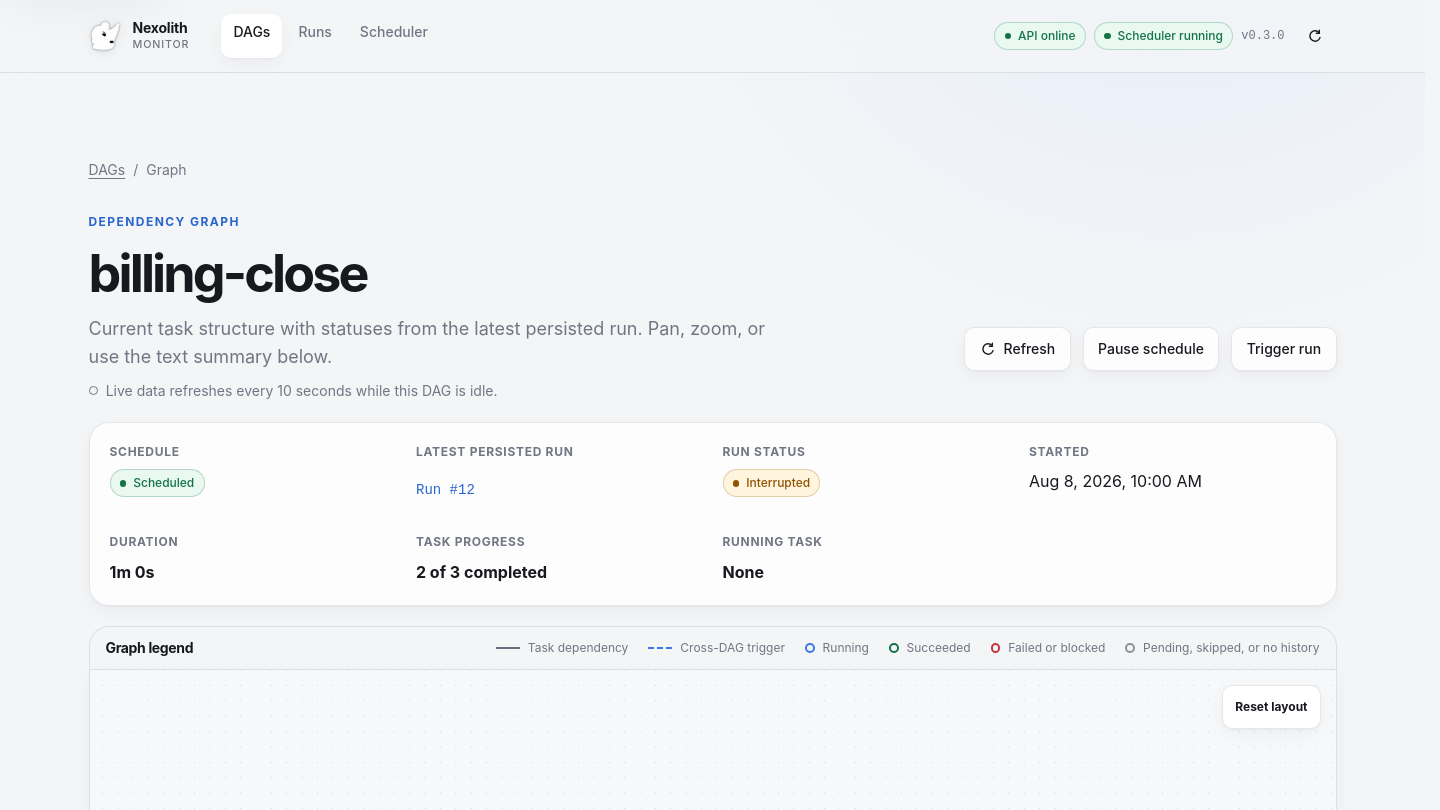
Test: renders typed protected action failures without exposing backend internals
The image size is (1440, 810).
Click the button "Trigger run" at point(1284, 349), box [1231,327,1336,371]
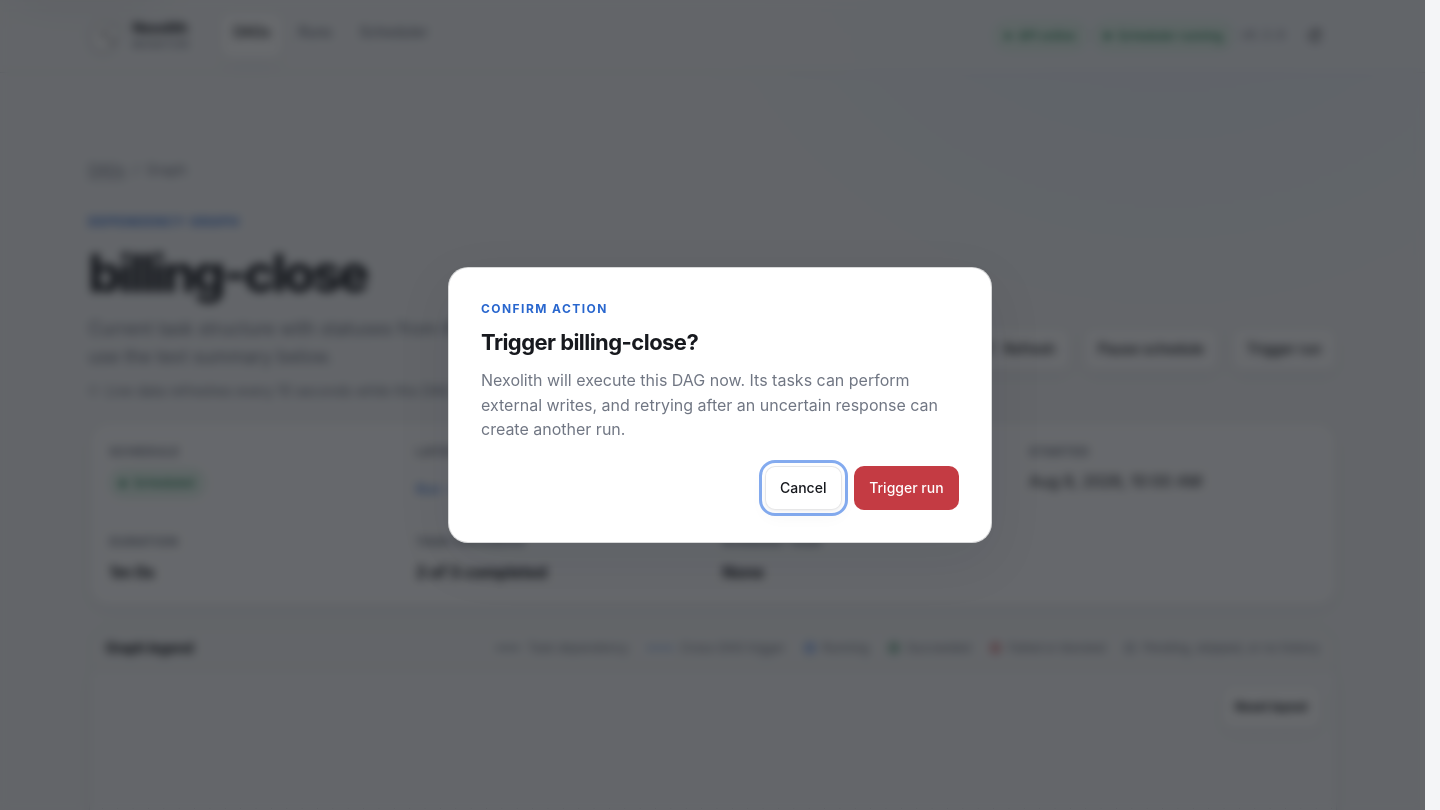
Click the button "Trigger run" below "Trigger billing-close?" at point(906, 488), box [854,466,959,510]
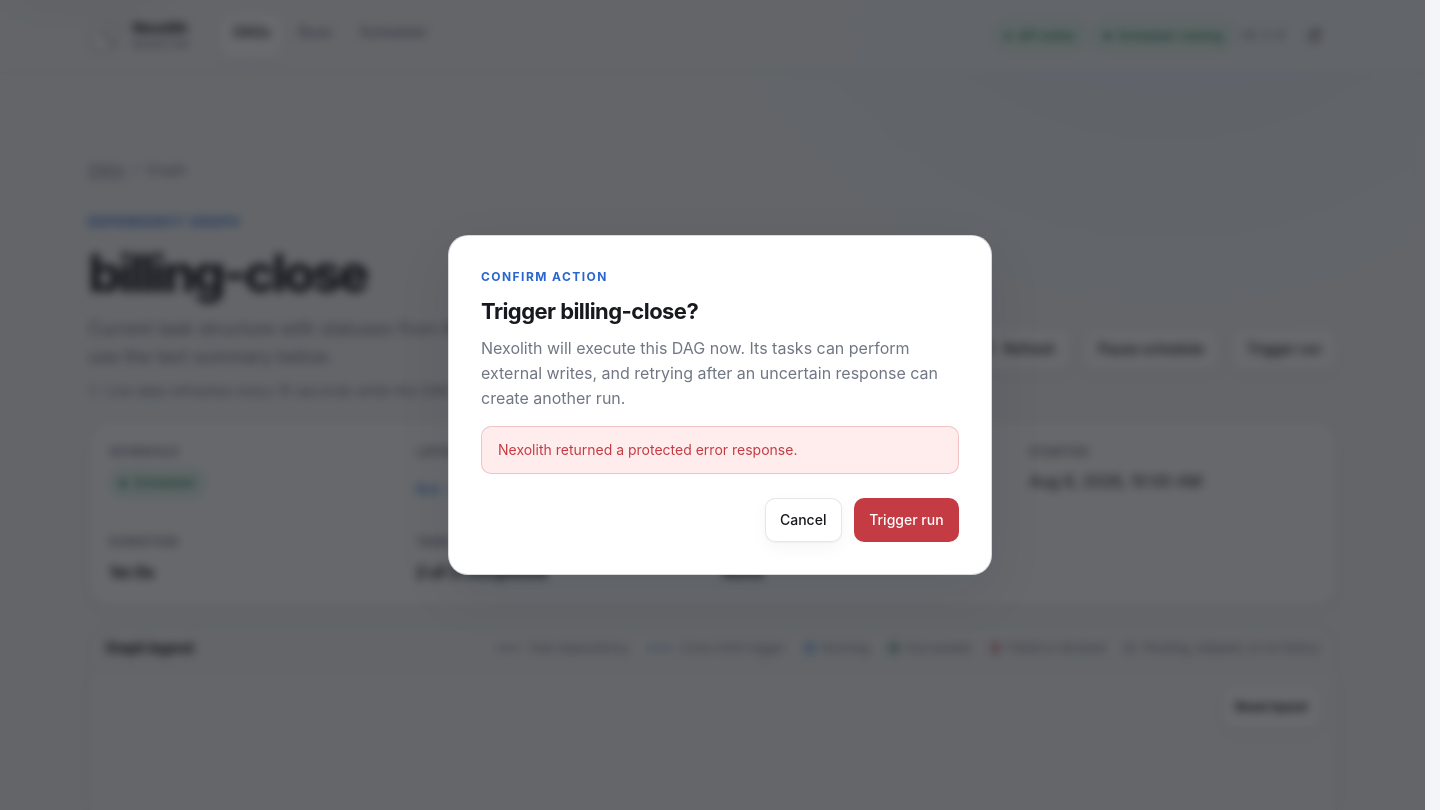
Expected: the dialog "Trigger billing-close?" does not show "C:\\Users\\operator", [448,235,992,575]
Now the text "Nexolith returned a protected error response." is shown, box [481,426,959,474]
